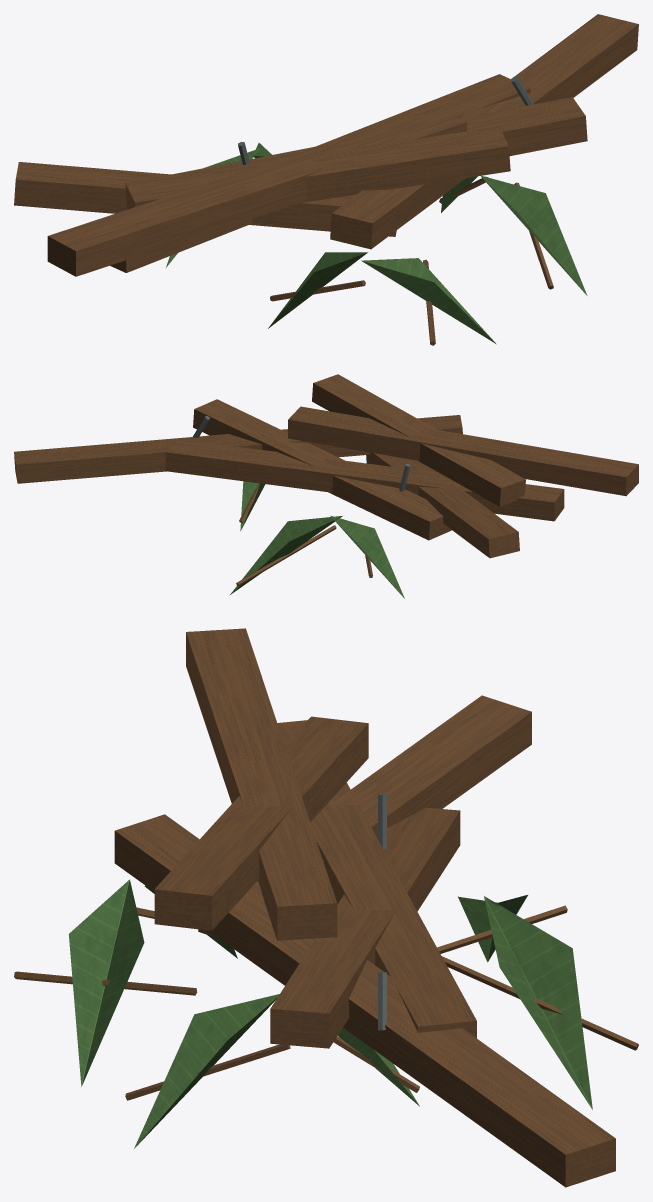
Rendered from en-002_broken_plank_pile__small.obj.
3 views of the same model, one above another, from view 1: azimuth 30°, elevation 25°; view 2: azimuth 150°, elevation 25°; view 3: azimuth 270°, elevation 25° (orthographic). The views are drawn at different scales.
Visible parts, largest first — view 1: en-002_broken_plank_pile__small; view 2: en-002_broken_plank_pile__small; view 3: en-002_broken_plank_pile__small.
Boxes of the visible parts, x1,y1,x2,y2 form: en-002_broken_plank_pile__small: (14,14,638,345); en-002_broken_plank_pile__small: (14,374,638,598); en-002_broken_plank_pile__small: (14,628,638,1187).
Bounding box in the file's own units: 1.89 × 0.4478 × 1.08.
3 materials, 3 textured.
